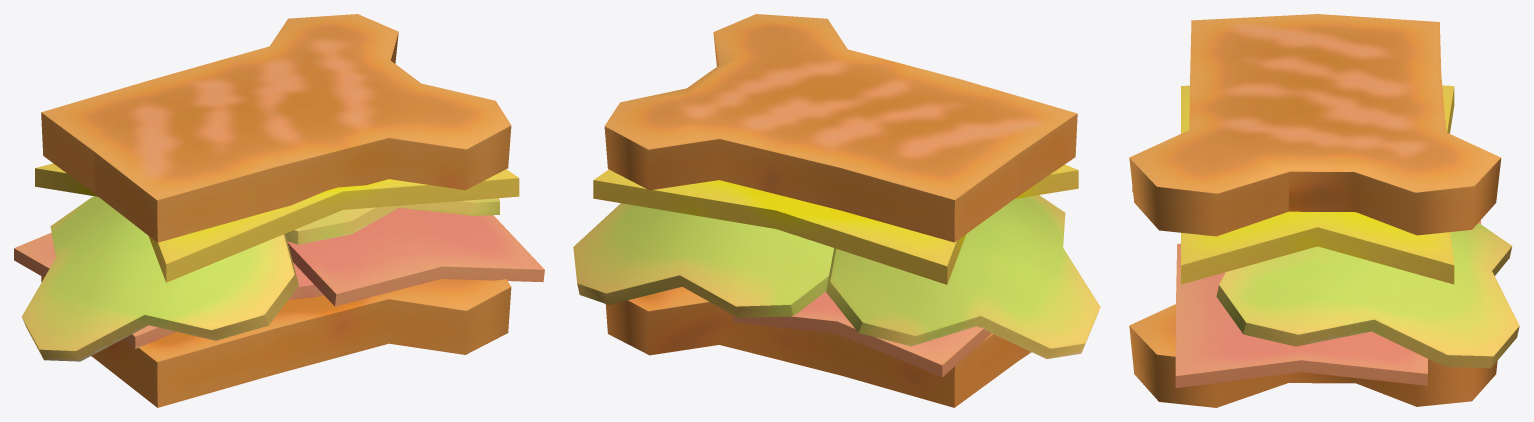
The model's file is sandwich-toast.glb.
3 renders of one model, left to right at view 1: azimuth 30°, elevation 25°; view 2: azimuth 150°, elevation 25°; view 3: azimuth 270°, elevation 25°, orthographic. The views are drawn at different scales.
Parts seen in each view (by area): view 1: Sandwich_Toast_Foodback_Materials_10_20_0; view 2: Sandwich_Toast_Foodback_Materials_10_20_0; view 3: Sandwich_Toast_Foodback_Materials_10_20_0.
Boxes of the visible parts, left/top/right/bottom form: Sandwich_Toast_Foodback_Materials_10_20_0: left=14, top=14, right=544, bottom=407; Sandwich_Toast_Foodback_Materials_10_20_0: left=573, top=14, right=1100, bottom=407; Sandwich_Toast_Foodback_Materials_10_20_0: left=1129, top=14, right=1519, bottom=407.
Size of the model in its own units: 1.92 by 0.8914 by 1.38.
Materials: 1 (1 with a texture image).
